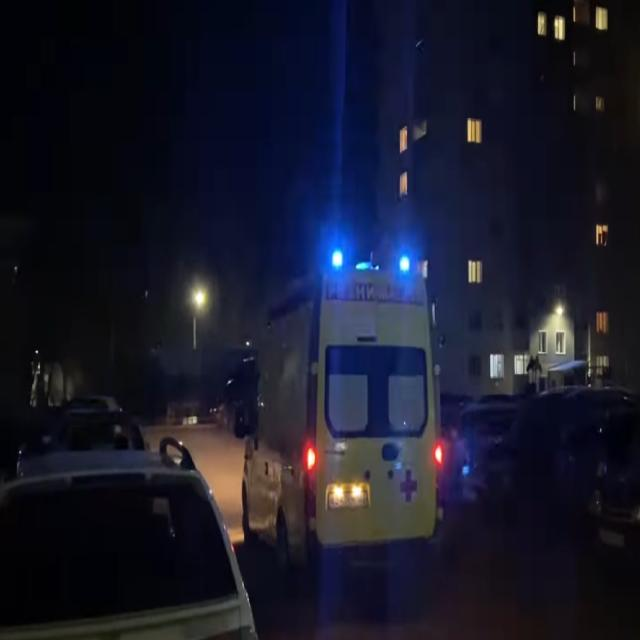intensive care unit: (244, 249, 448, 591)
